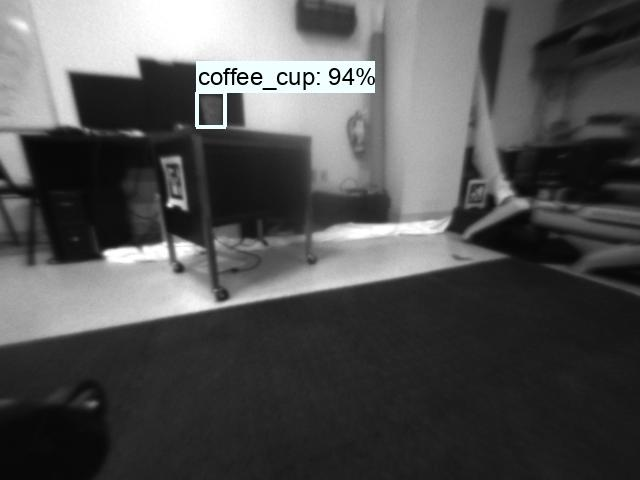coffee_cup: (196, 92, 228, 126)
